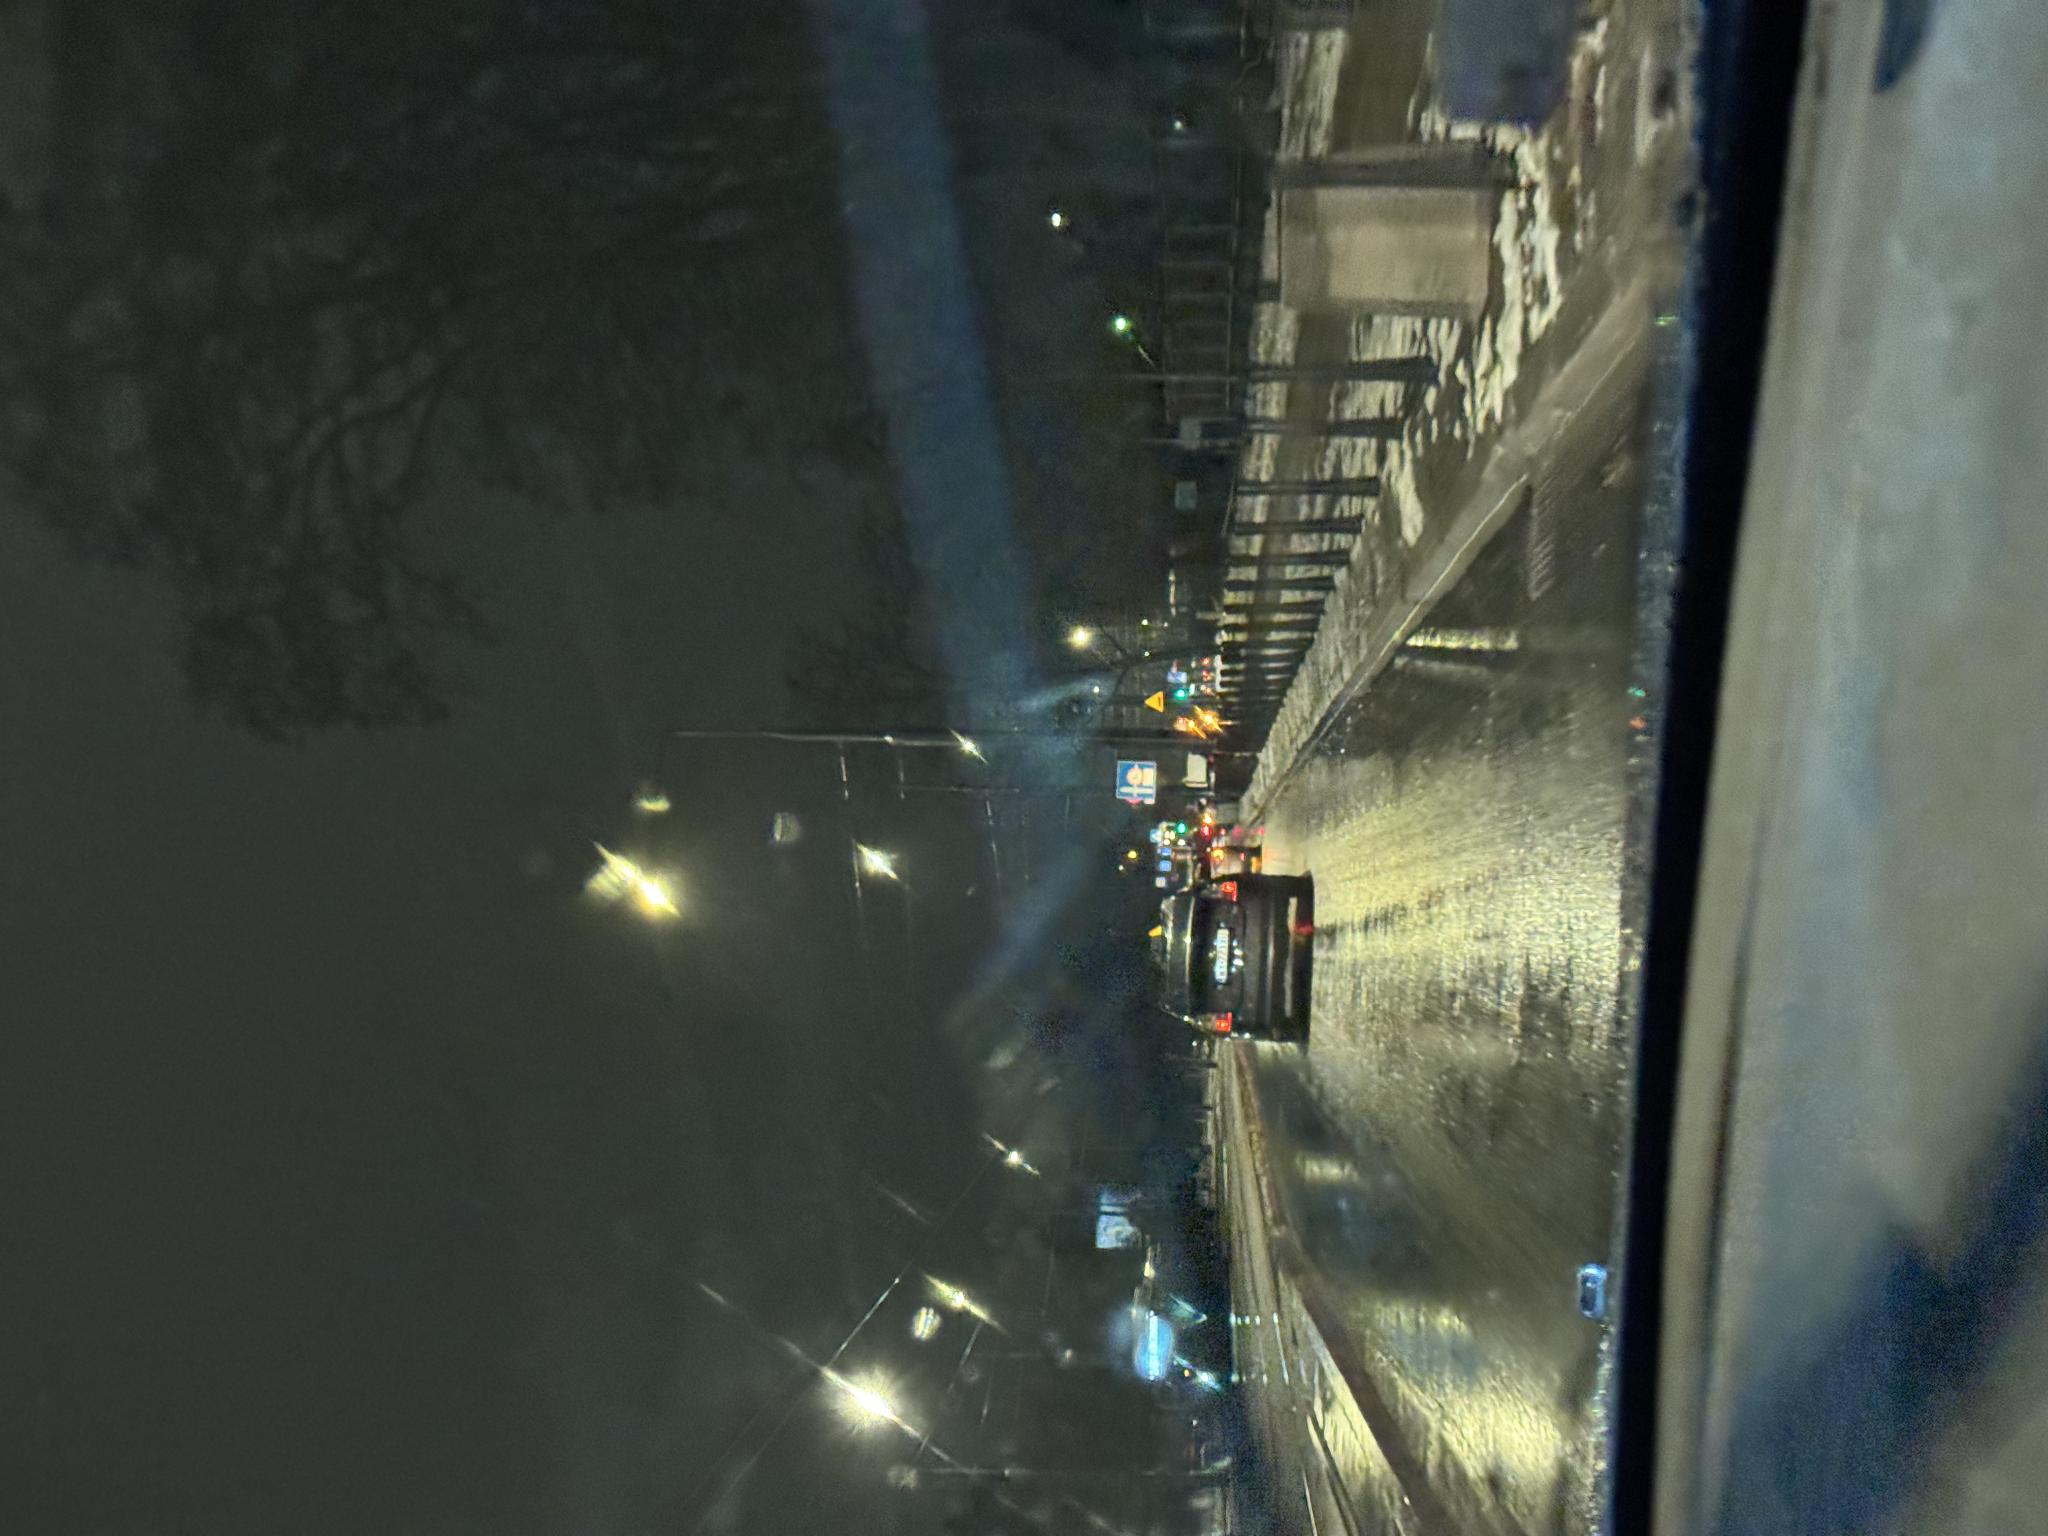other: (736, 1116, 776, 1156)
warning: (824, 1144, 844, 1164)
